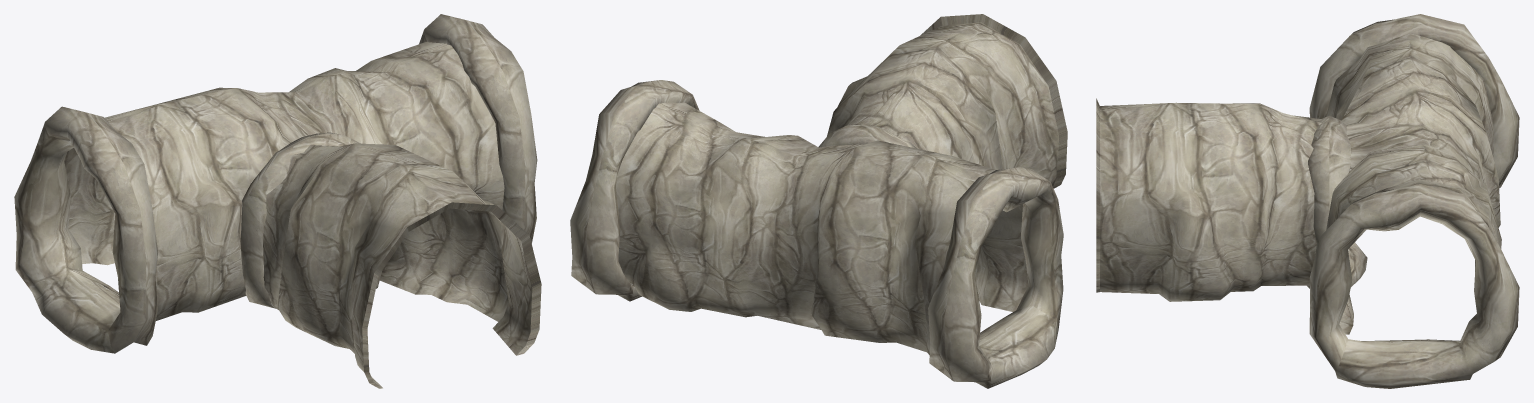
File: cave ceiling T.FBX
3 renders of one model, left to right at view 1: azimuth 30°, elevation 25°; view 2: azimuth 150°, elevation 25°; view 3: azimuth 270°, elevation 25°, orthographic. The views are drawn at different scales.
Parts seen in each view (by area): view 1: cave ceiling T; view 2: cave ceiling T; view 3: cave ceiling T.
Boxes of the visible parts, x1,y1,x2,y2 form: cave ceiling T: [14, 14, 541, 388]; cave ceiling T: [570, 14, 1067, 388]; cave ceiling T: [1096, 14, 1519, 388].
Size of the model in its own units: 48.48 by 21.1 by 42.12.
